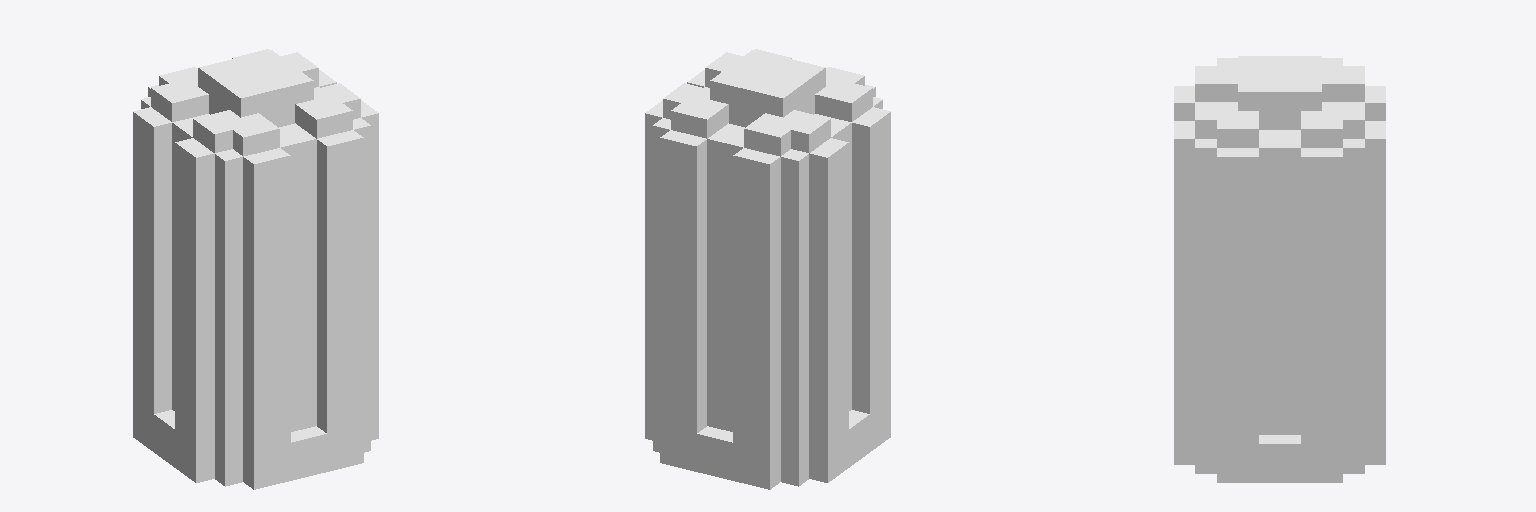
The model's file is tower2_lowLevel-1.obj.
3 views of the same model, side by side, from view 1: azimuth 30°, elevation 25°; view 2: azimuth 150°, elevation 25°; view 3: azimuth 270°, elevation 25° (orthographic).
Parts seen in each view (by area): view 1: object 1; view 2: object 1; view 3: object 1.
Boxes of the visible parts, x1,y1,x2,y2 form: object 1: [133, 49, 378, 489]; object 1: [645, 49, 890, 489]; object 1: [1174, 56, 1385, 482].
Bounding box in the file's own units: 1 × 1.9 × 1.